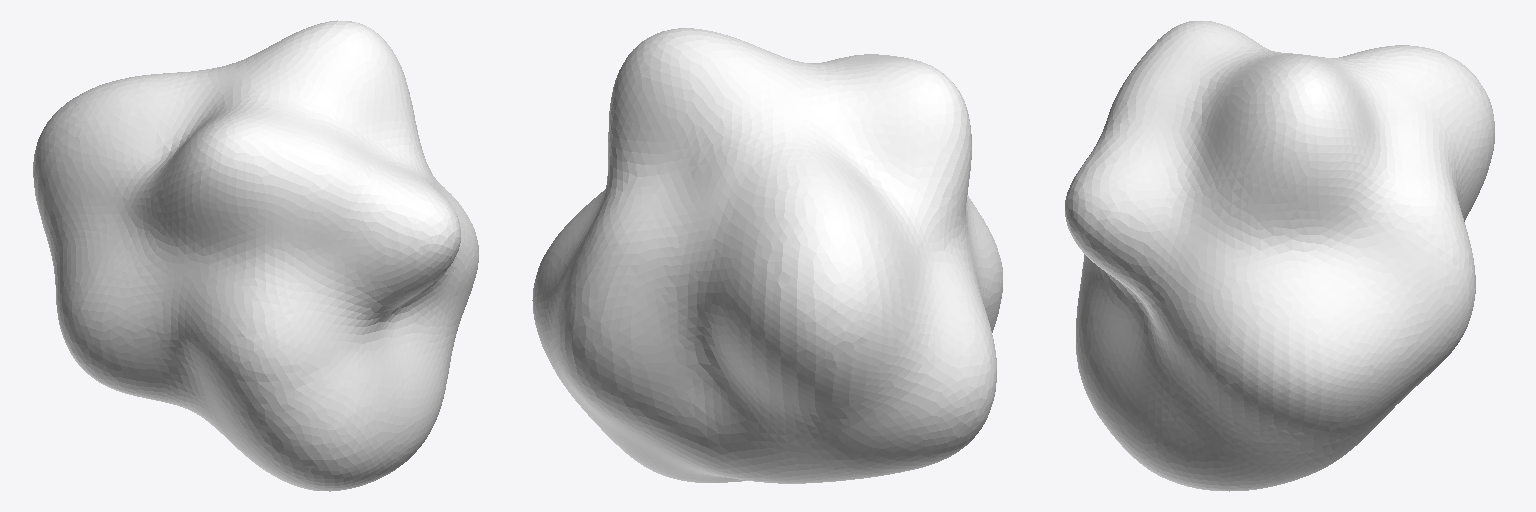
robot.urdf — BigGlaven3:
<robot name="BigGlaven3">
	<link name="_name">
		<visual>
			<origin rpy="0 0 0" xyz="-0.0013598513863009672 -0.0004653768346131338 0.0015405898631417076" />
			<geometry>
				<mesh filename="BigGlaven3.obj" scale="0.001 0.001 0.001" />
			</geometry>
			<material name="texture">
				<color rgba="1.0 1.0 1.0 1.0" />
			</material>
		</visual>
		<collision>
			<geometry>
				<mesh filename="BigGlaven3_vhacd.obj" scale="0.001 0.001 0.001" />
			</geometry>
		<origin rpy="0 0 0" xyz="-0.0013598513863009672 -0.0004653768346131338 0.0015405898631417076" /></collision>
		<inertial>
			<mass value="1.0" />
			<inertia ixx="1.0" ixy="0.0" ixz="0.0" iyy="1.0" iyz="0.0" izz="1.0" />
		</inertial>
	</link>
</robot>

--- Facts derived from the render (not from the file) ---
3 views of the same robot in one strip: view 1: azimuth 30°, elevation 25°; view 2: azimuth 150°, elevation 25°; view 3: azimuth 270°, elevation 25° (orthographic).
Model BigGlaven3 with 1 links and 0 joints (none), rooted at _name, posed every joint at zero.
Links seen in each view (by area): view 1: _name; view 2: _name; view 3: _name.
Boxes of the visible links, x1,y1,x2,y2 form: _name: [33, 20, 478, 491]; _name: [532, 28, 1002, 483]; _name: [1065, 21, 1494, 491].
Bounding box of the posed robot: 0.0449 × 0.0412 × 0.0442 m (x, y, z).
Meshes: 1 distinct files referenced, 1 mesh visuals loaded (1 OBJ).
